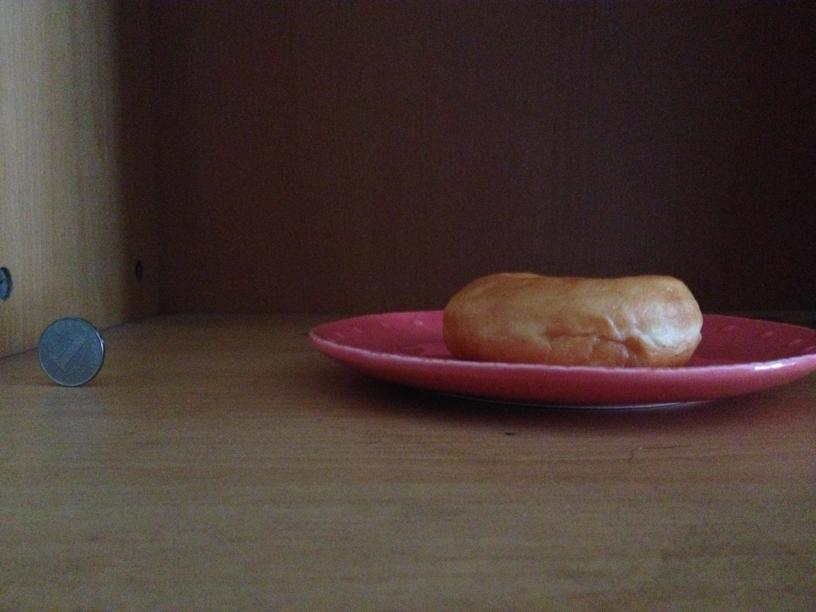coin: (36, 316, 105, 387)
doughnut: (441, 265, 705, 366)
